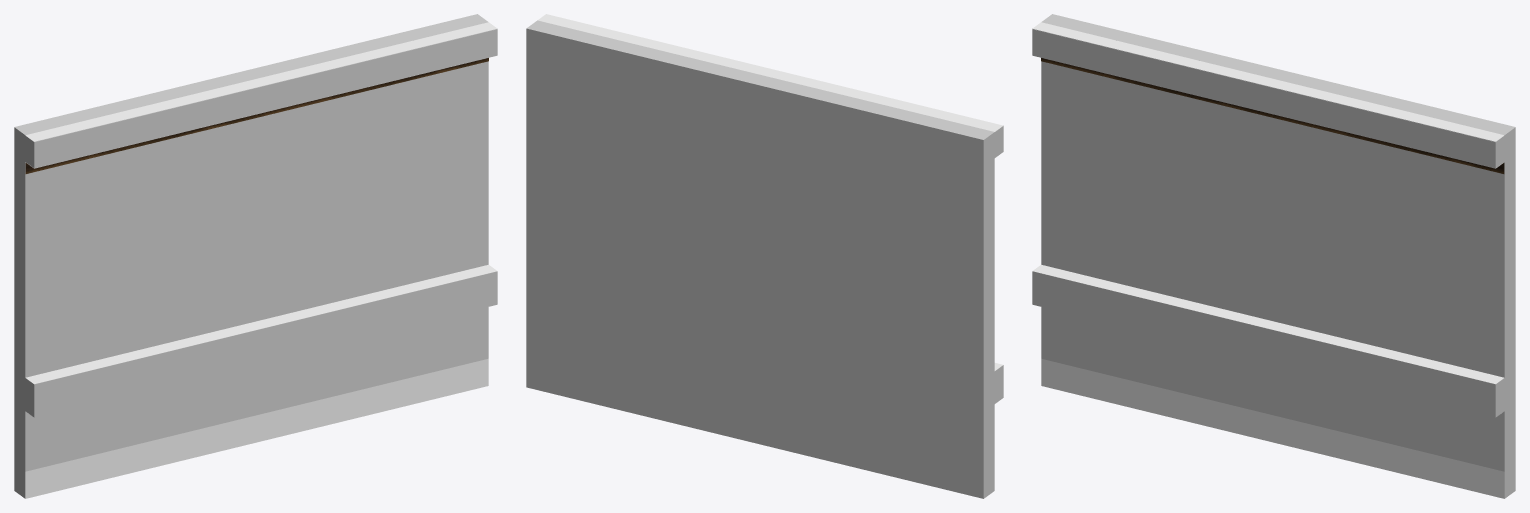
File: Wall_A_Exterior_Window_02_x4.fbx
3 renders of one model, left to right at view 1: azimuth 30°, elevation 25°; view 2: azimuth 150°, elevation 25°; view 3: azimuth 330°, elevation 25°, orthographic.
Parts seen in each view (by area): view 1: C_Wall_A_Exterior_Window_02_x4, Wall_A_Exterior_Window_02_x4; view 2: C_Wall_A_Exterior_Window_02_x4, Wall_A_Exterior_Window_02_x4; view 3: C_Wall_A_Exterior_Window_02_x4, Wall_A_Exterior_Window_02_x4.
Boxes of the visible parts, <box> form: C_Wall_A_Exterior_Window_02_x4: <box>14,14,497,498</box>; Wall_A_Exterior_Window_02_x4: <box>25,22,497,498</box>; C_Wall_A_Exterior_Window_02_x4: <box>526,20,1003,498</box>; Wall_A_Exterior_Window_02_x4: <box>538,14,1003,370</box>; C_Wall_A_Exterior_Window_02_x4: <box>1032,14,1515,498</box>; Wall_A_Exterior_Window_02_x4: <box>1032,22,1504,498</box>.
Bounding box in the file's own units: 4 × 3 × 0.3017.
